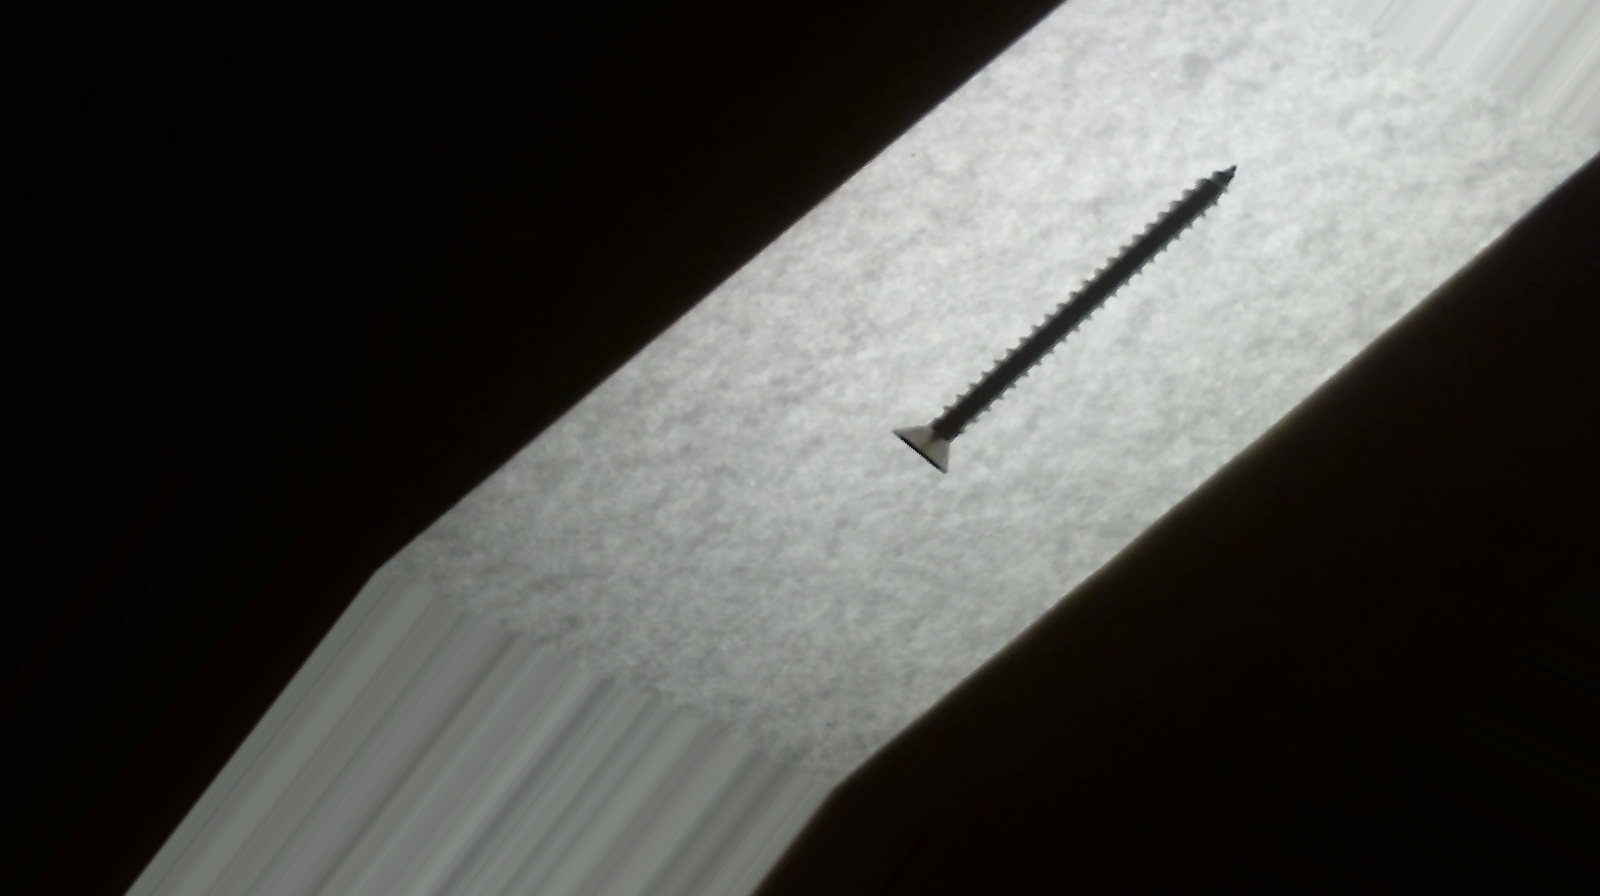S002: (857, 109, 1266, 518)
